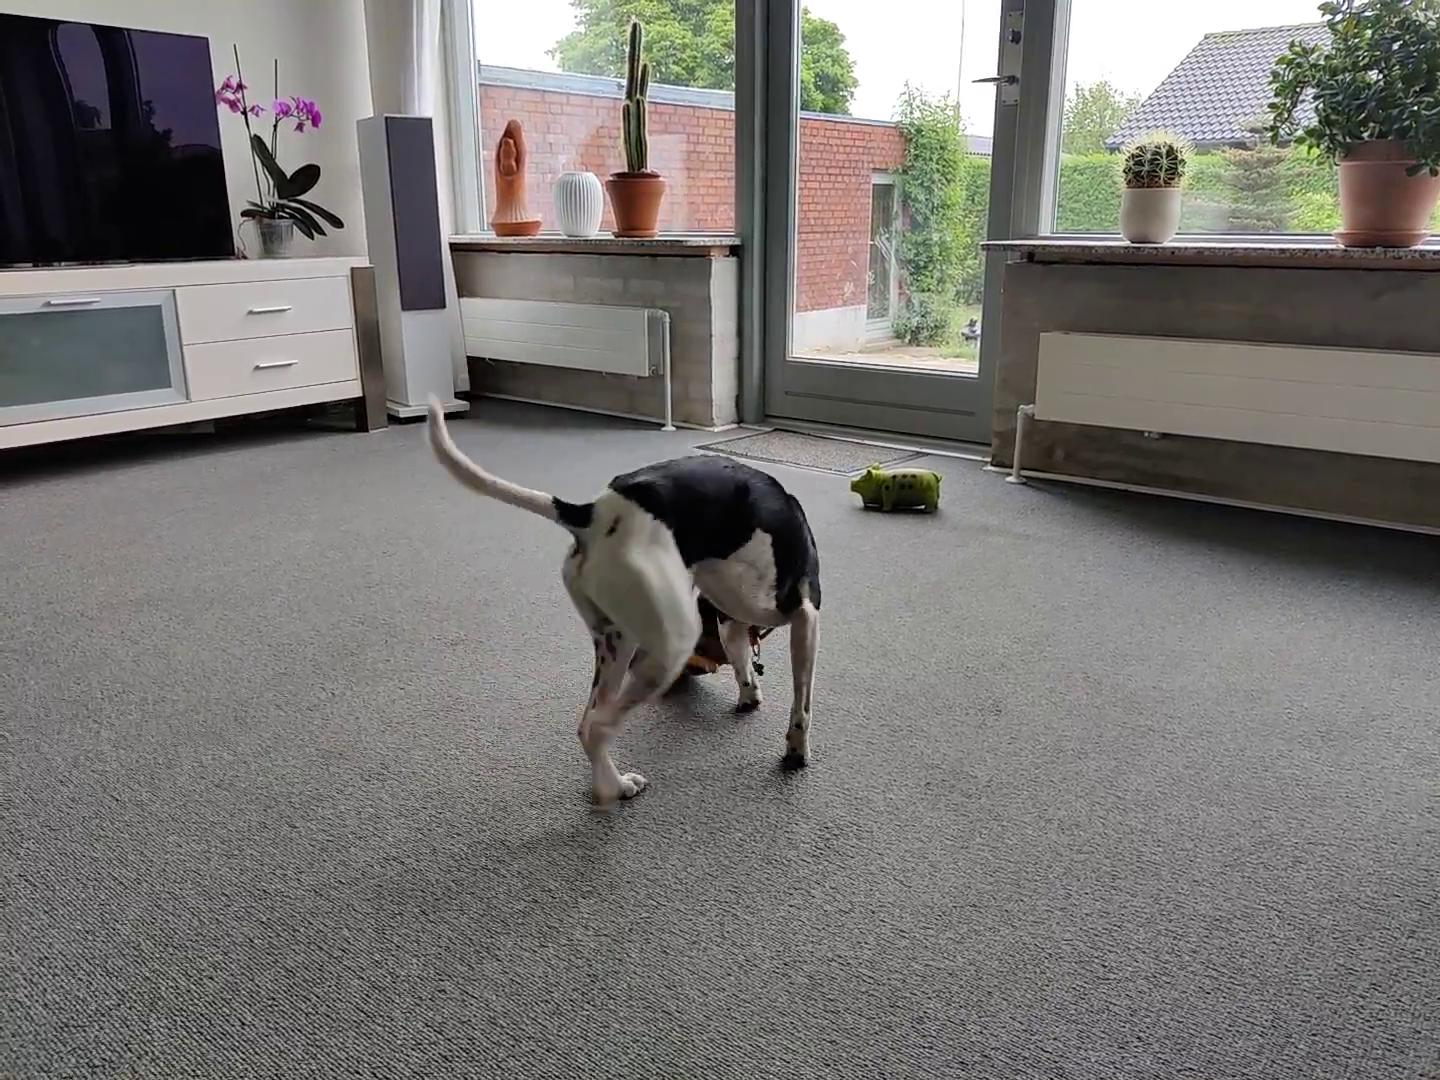Dog: (422, 388, 830, 810)
